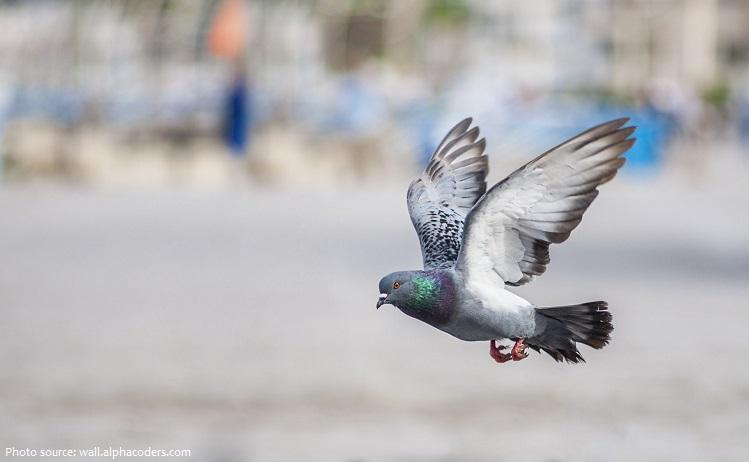Flying Rat: (363, 117, 631, 371)
